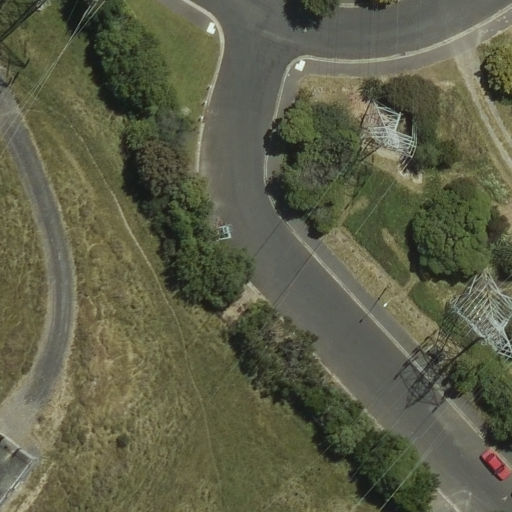TT: (447, 261, 512, 359), (356, 101, 422, 165)
